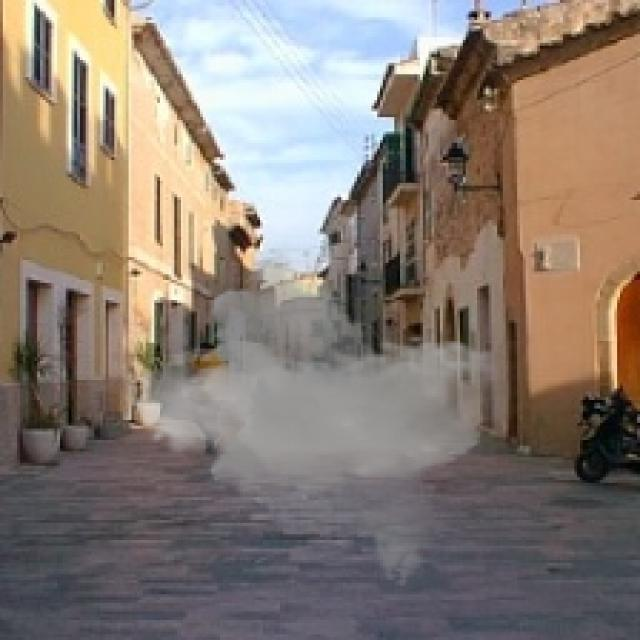Smoke: (134, 246, 500, 588)
